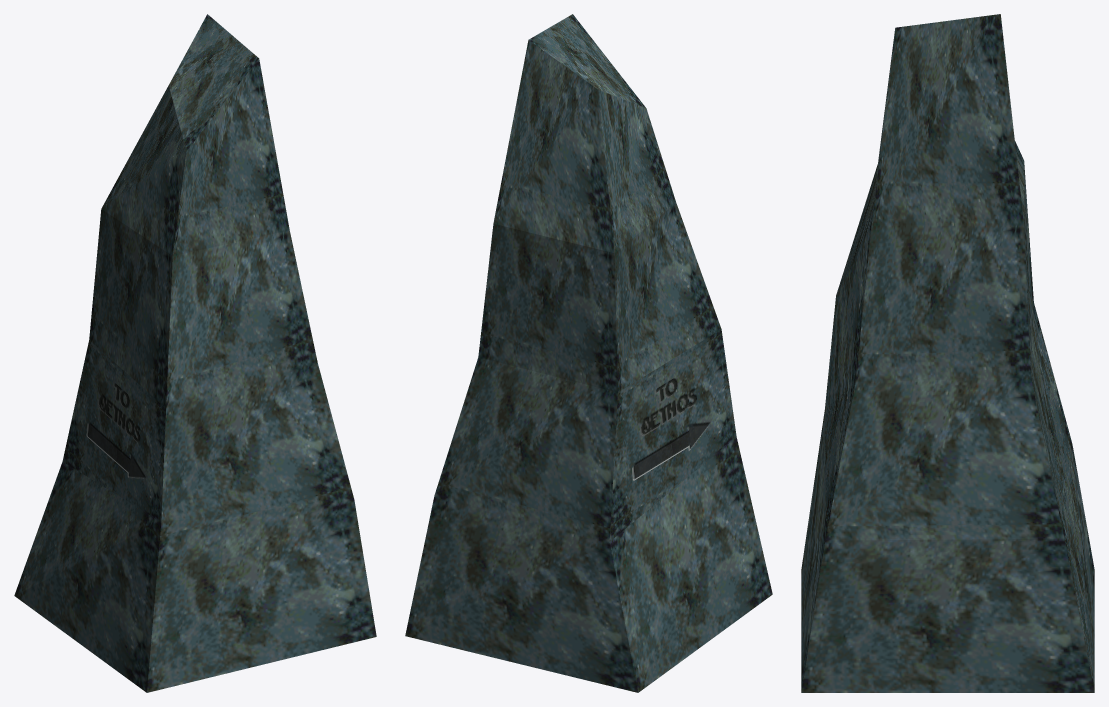
Rendered from ToQey1.fbx.
3 views of the same model, side by side, from view 1: azimuth 30°, elevation 25°; view 2: azimuth 150°, elevation 25°; view 3: azimuth 270°, elevation 25° (orthographic). The views are drawn at different scales.
Visible parts, largest first — view 1: TOQEY1; view 2: TOQEY1; view 3: TOQEY1.
Part boxes in pixels (x1,y1,x2,y2): TOQEY1: (14, 14, 376, 692); TOQEY1: (405, 14, 772, 692); TOQEY1: (801, 14, 1094, 692).
Bounding box in the file's own units: 10 × 23.96 × 10.
